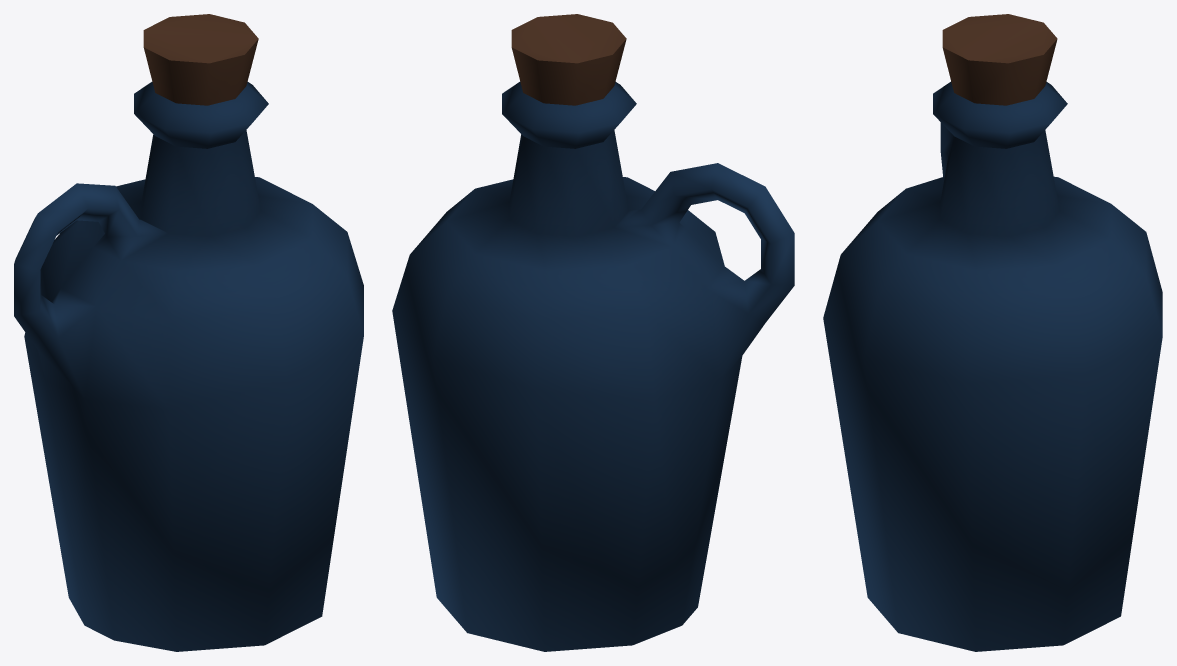
Rendered from obj_bottle_A_LOW.FBX.
The picture shows the model from 3 angles, left to right: view 1: azimuth 30°, elevation 25°; view 2: azimuth 150°, elevation 25°; view 3: azimuth 270°, elevation 25°; orthographic projection.
Visible parts, largest first — view 1: obj_bottle_A_LOW; view 2: obj_bottle_A_LOW; view 3: obj_bottle_A_LOW.
Part boxes in pixels (x1,y1,x2,y2): obj_bottle_A_LOW: (14, 14, 363, 651); obj_bottle_A_LOW: (392, 14, 794, 651); obj_bottle_A_LOW: (823, 14, 1162, 651).
Size of the model in its own units: 0.7231 by 1.09 by 0.5979.
